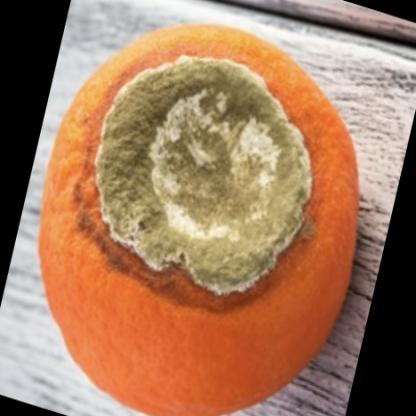rotten: (42, 27, 357, 416)
